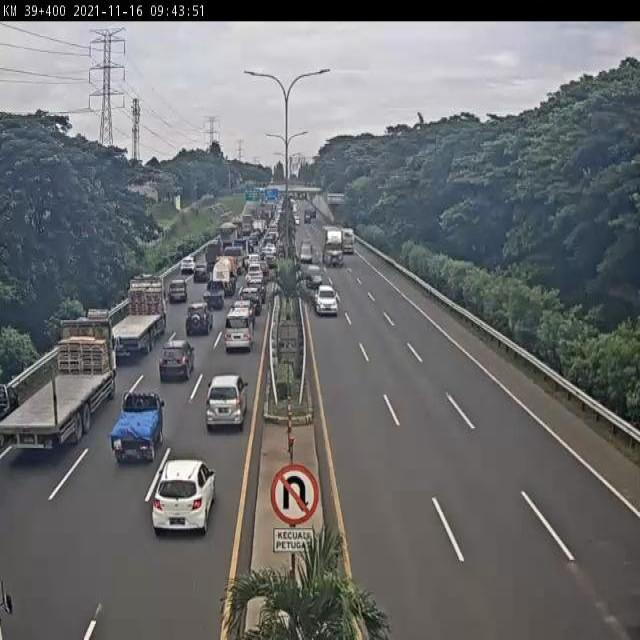car: (148, 454, 214, 534), (111, 391, 164, 469), (204, 373, 247, 432), (158, 343, 196, 384), (223, 314, 253, 354), (183, 306, 213, 342), (314, 282, 339, 318), (202, 280, 226, 313), (230, 300, 254, 333), (240, 287, 262, 313), (305, 261, 323, 291), (167, 284, 187, 308), (248, 277, 268, 299), (189, 265, 206, 287), (246, 265, 264, 284), (177, 260, 193, 277), (248, 254, 264, 266), (301, 242, 310, 258)
small truck: (200, 242, 221, 270), (224, 246, 243, 274)
truck-l-: (0, 321, 114, 452), (105, 276, 168, 359), (322, 227, 346, 268)
truck-m-: (212, 258, 235, 298), (217, 223, 237, 253)
